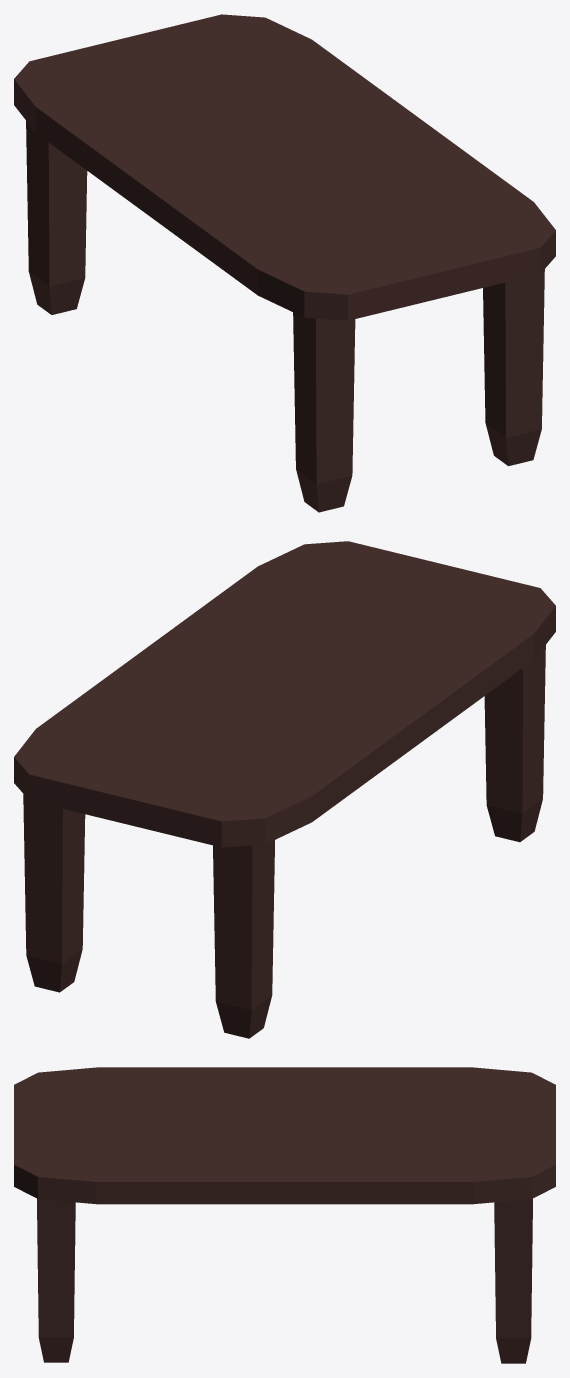
Rendered from Table2.fbx.
The picture shows the model from 3 angles, top to bottom: view 1: azimuth 30°, elevation 25°; view 2: azimuth 150°, elevation 25°; view 3: azimuth 270°, elevation 25°; orthographic projection. The views are drawn at different scales.
Parts seen in each view (by area): view 1: Table2; view 2: Table2; view 3: Table2.
Boxes of the visible parts, left/top/right/bottom form: Table2: left=14, top=14, right=555, bottom=512; Table2: left=14, top=541, right=555, bottom=1038; Table2: left=14, top=1067, right=555, bottom=1363.
Size of the model in its own units: 955 by 754 by 1911.
